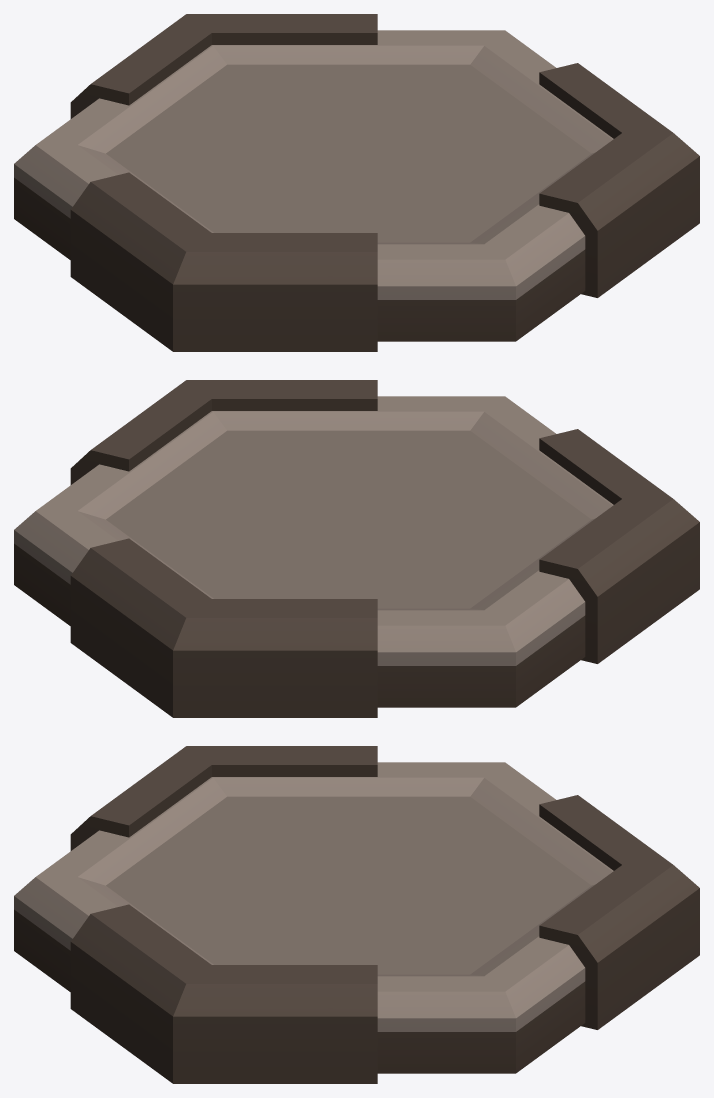
Rendered from Hexagon 16.FBX.
3 views of the same model, one above another, from view 1: azimuth 30°, elevation 25°; view 2: azimuth 150°, elevation 25°; view 3: azimuth 270°, elevation 25° (orthographic).
Visible parts, largest first — view 1: Hexagon 16; view 2: Hexagon 16; view 3: Hexagon 16.
Part boxes in pixels (x1,y1,x2,y2): Hexagon 16: [14, 14, 699, 351]; Hexagon 16: [14, 380, 699, 717]; Hexagon 16: [14, 746, 699, 1083].
Size of the model in its own units: 294 by 48.21 by 331.
1 material, 1 textured.
